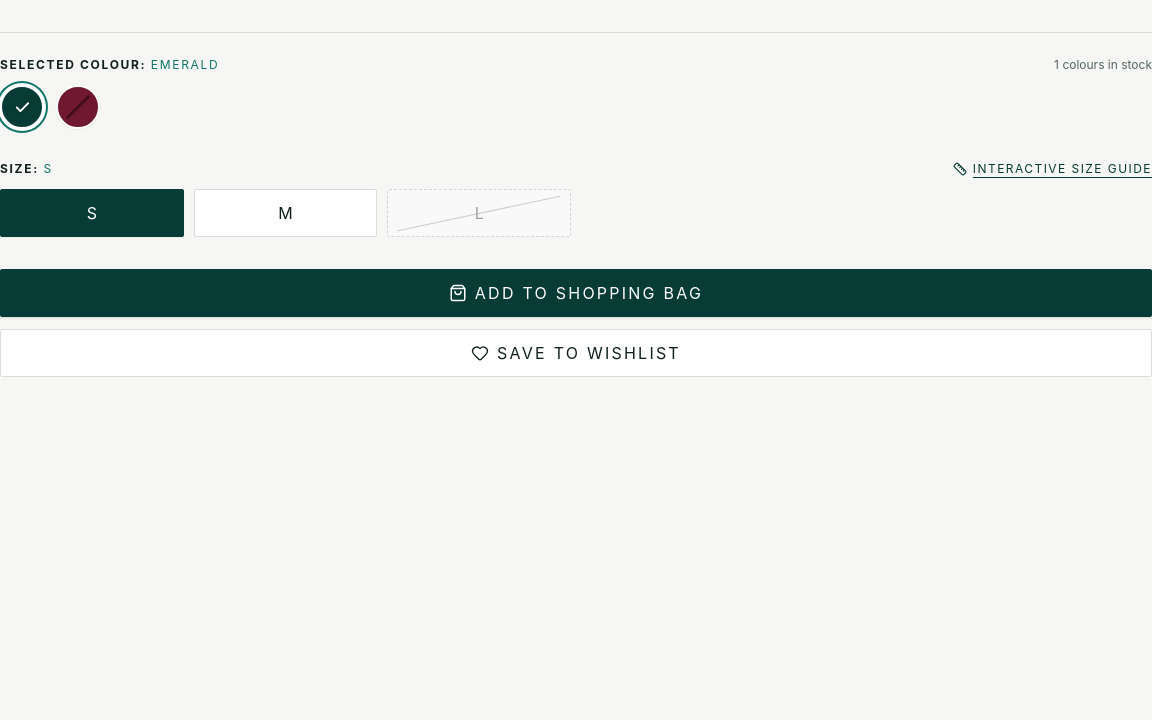
PDP Back-In-Stock Notification UX › opens the stock notify modal dialog when clicking Notify me when available
Click the button named "L (Out of stock - click to notify)" at (479, 213), box x1=387 y1=189 x2=571 y2=237
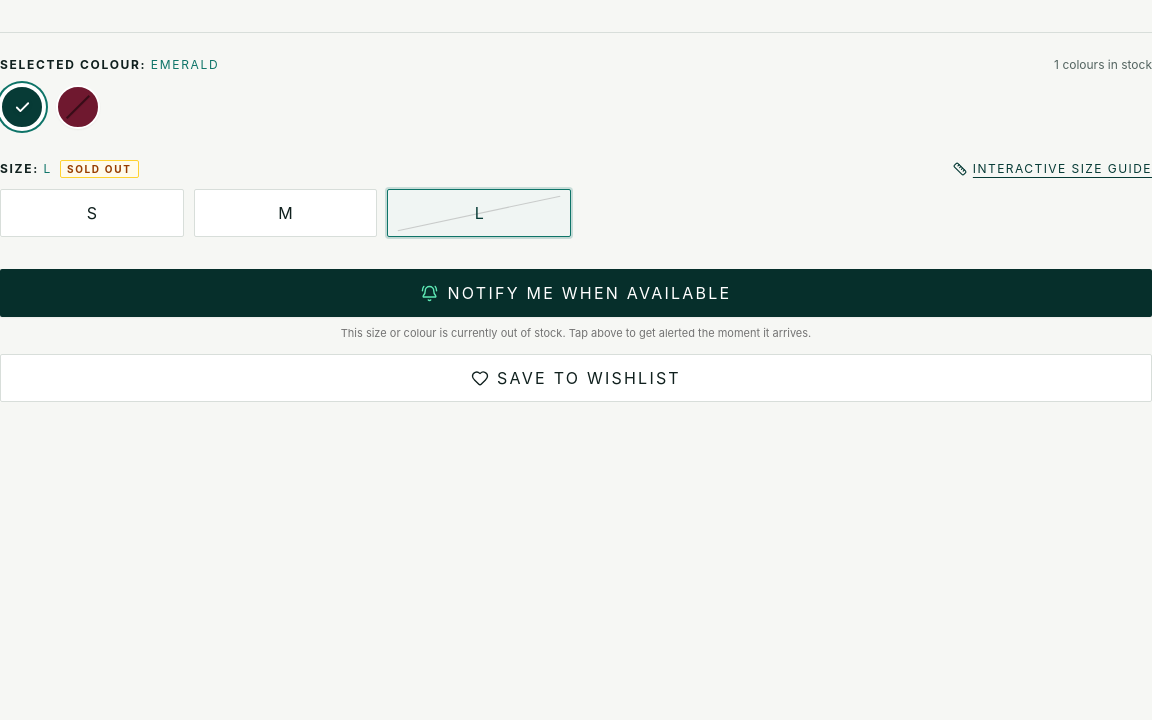
Click the button "Notify me when available" at (576, 293), box x1=0 y1=269 x2=1151 y2=317
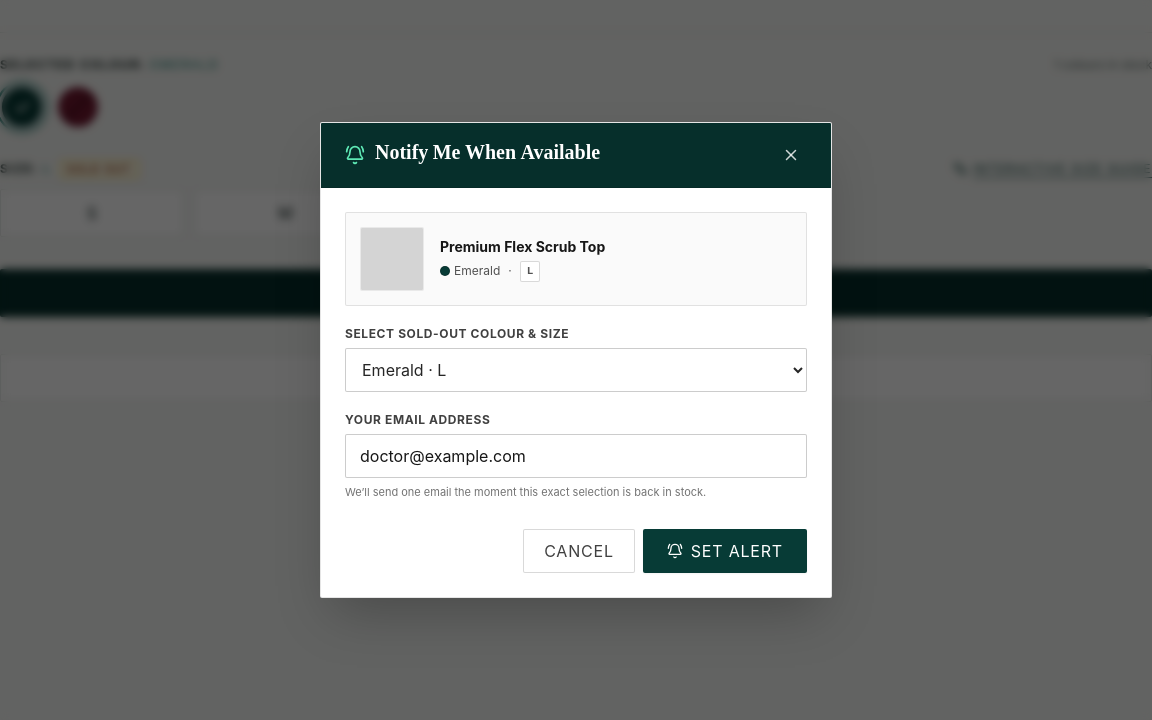
Now the dialog is shown
Now the heading "Notify Me When Available" is shown, box x1=375 y1=141 x2=600 y2=169
Now the field labelled "Your Email Address" holds "doctor@example.com", box x1=345 y1=434 x2=807 y2=478
